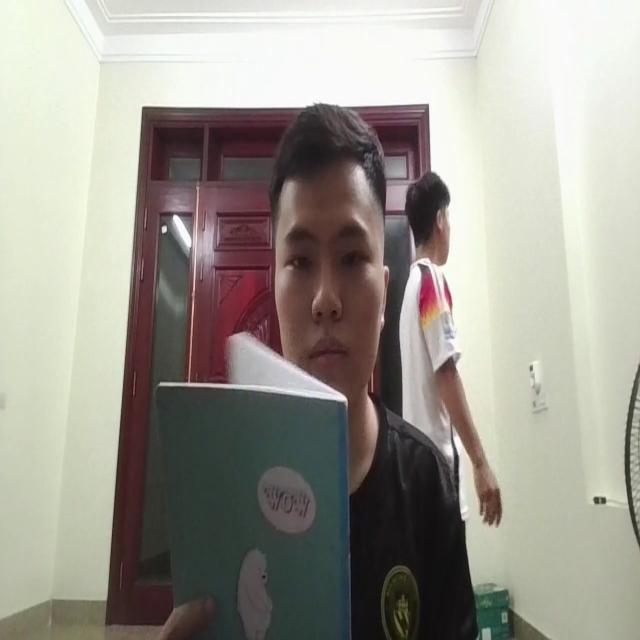book: (141, 317, 355, 640)
extra_person: (394, 160, 507, 551)
student: (266, 117, 436, 640)
